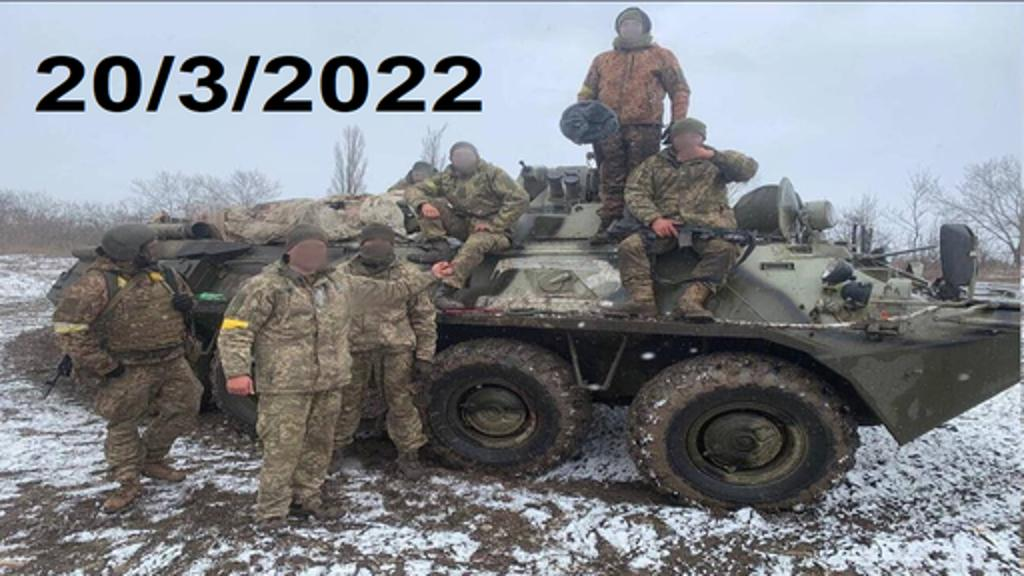APC-IFV: (54, 138, 1018, 516)
